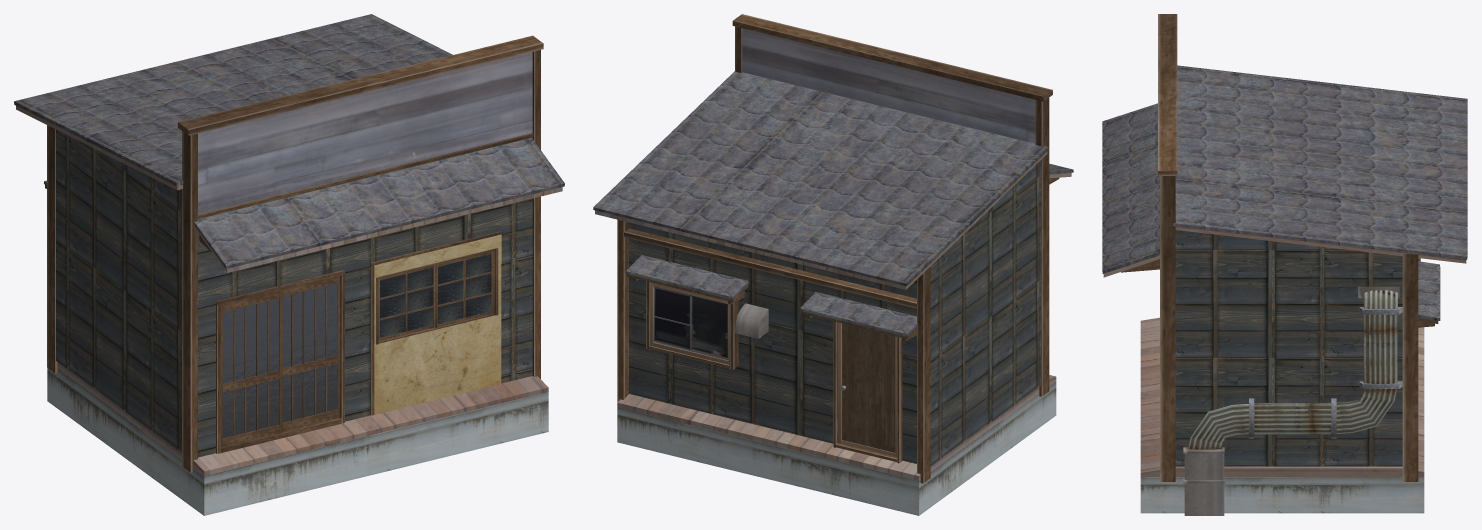
Rendered from ms_small_2k.fbx.
3 renders of one model, left to right at view 1: azimuth 30°, elevation 25°; view 2: azimuth 150°, elevation 25°; view 3: azimuth 270°, elevation 25°, orthographic. The views are drawn at different scales.
Parts seen in each view (by area): view 1: ms_small_2k; view 2: ms_small_2k; view 3: ms_small_2k.
Part boxes in pixels (x1=…): ms_small_2k: x1=14, y1=14, x2=564, y2=515; ms_small_2k: x1=593, y1=14, x2=1073, y2=515; ms_small_2k: x1=1102, y1=14, x2=1467, y2=515.
Size of the model in its own units: 610 by 592 by 618.
Materials: 5 (5 with a texture image).
